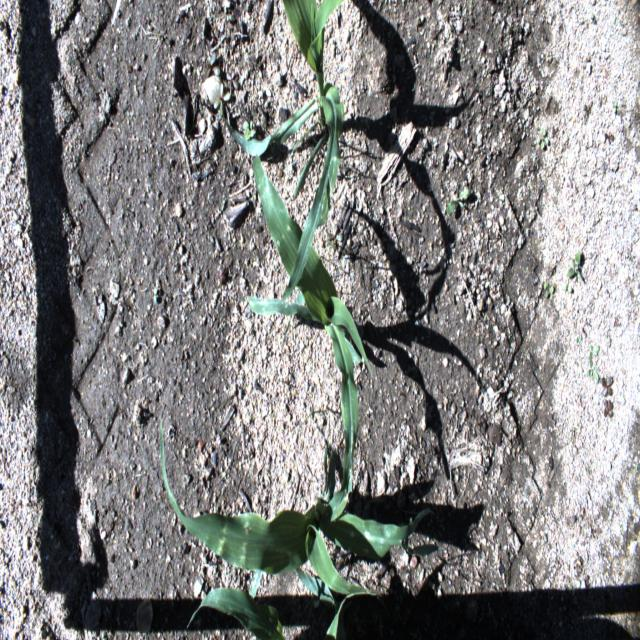crop: (159, 413, 445, 604), (248, 141, 372, 499), (222, 0, 345, 302), (294, 562, 381, 639), (188, 588, 289, 639)
weed: (287, 105, 329, 164), (446, 184, 468, 216), (212, 82, 230, 118), (566, 251, 585, 283), (327, 234, 344, 266), (299, 409, 327, 428), (241, 119, 257, 142), (587, 358, 599, 383), (536, 128, 549, 150), (602, 376, 613, 397), (603, 398, 614, 418), (588, 343, 600, 359), (544, 282, 554, 299), (575, 578, 587, 592), (562, 281, 572, 294), (614, 100, 618, 113)
